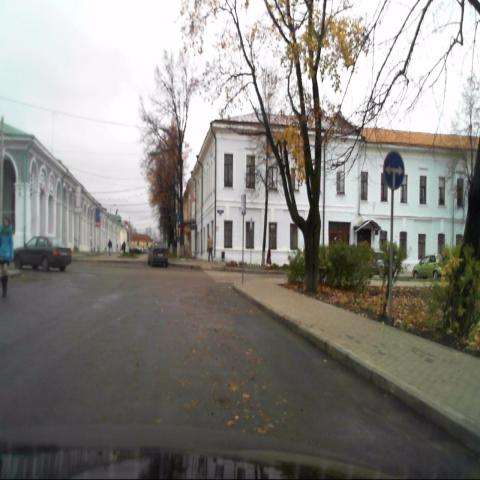4_1_6: (383, 150, 405, 191)
